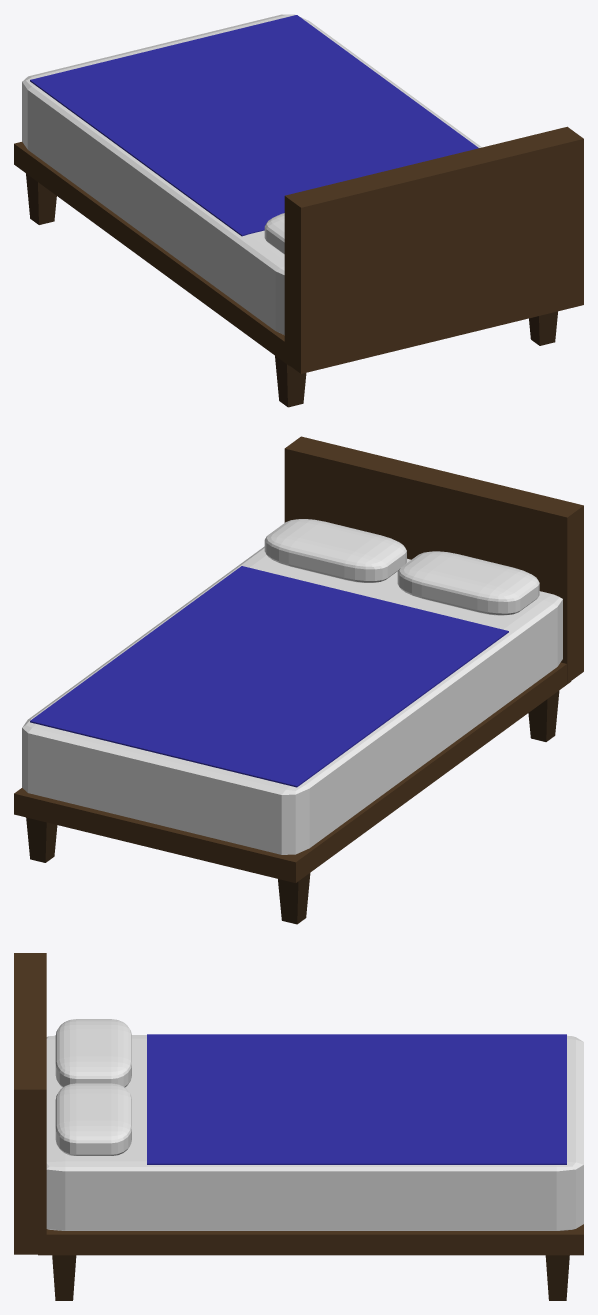
Rendered from bed.fbx.
3 views of the same model, one above another, from view 1: azimuth 30°, elevation 25°; view 2: azimuth 150°, elevation 25°; view 3: azimuth 270°, elevation 25° (orthographic).
Parts seen in each view (by area): view 1: Cube.003, Plane, Cube.001, Cube, Cube.002, Cube.004; view 2: Plane, Cube.001, Cube.003, Cube, Cube.004, Cube.002; view 3: Plane, Cube.001, Cube, Cube.004, Cube.003, Cube.002.
Part boxes in pixels (x1,y1,x2,y2): Cube.003: (284,126,583,373); Plane: (30,15,478,236); Cube.001: (22,14,481,334); Cube: (14,142,289,365); Cube.002: (26,173,557,407); Cube.004: (264,213,284,254); Plane: (30,566,508,787); Cube.001: (22,546,562,854); Cube.003: (284,436,583,683); Cube: (14,662,571,882); Cube.004: (264,519,539,615); Cube.002: (26,691,559,924); Plane: (147,1034,566,1164); Cube.001: (46,1035,583,1230); Cube: (38,1224,583,1255); Cube.004: (55,1019,131,1155); Cube.003: (14,953,46,1254); Cube.002: (52,1255,569,1300).
Size of the model in its own units: 306 by 224 by 538.
